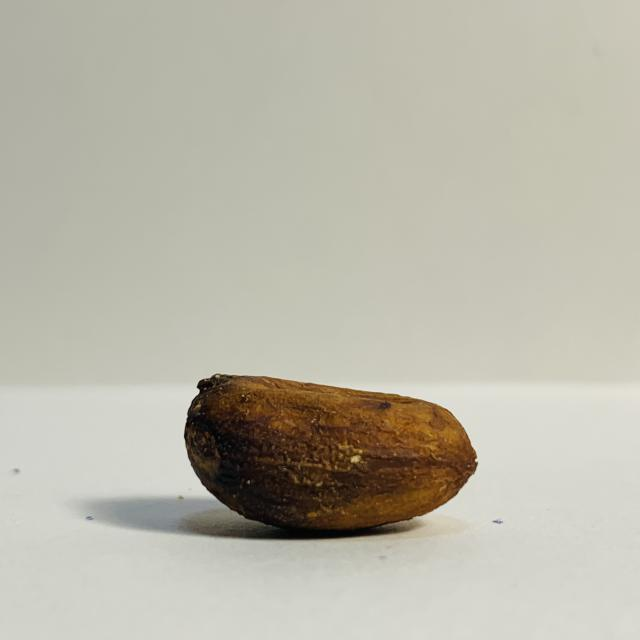Fine_cocoabeans: (58, 341, 546, 588)
